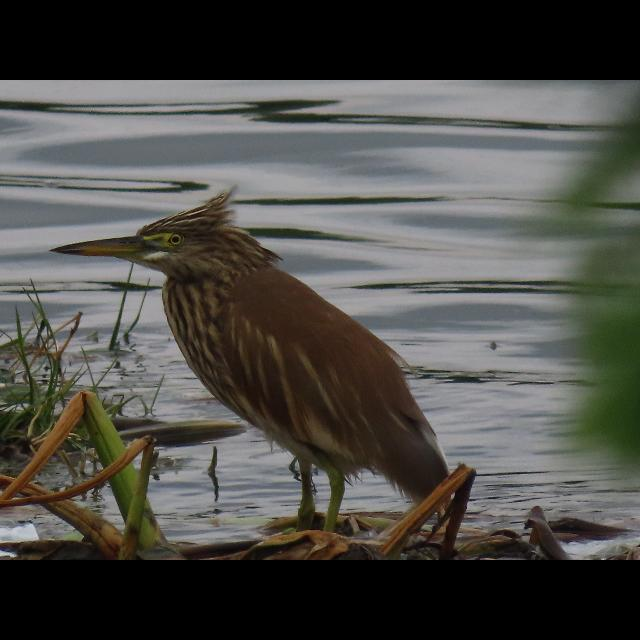heron: (46, 197, 454, 515)
